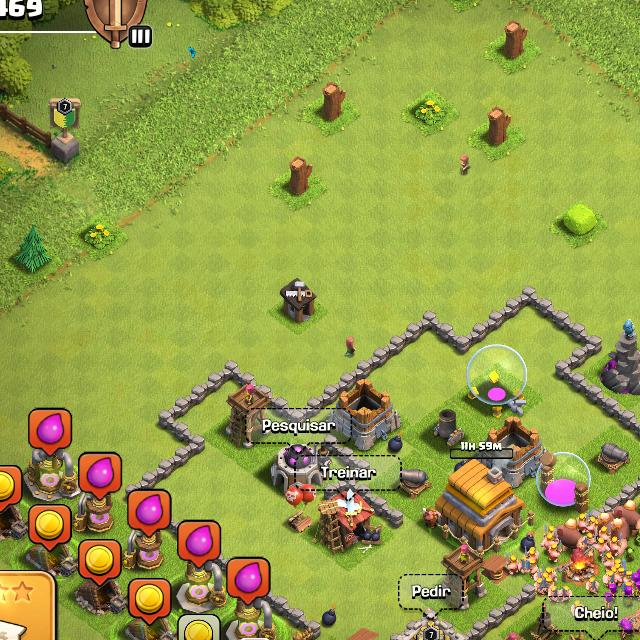Arqueira: (227, 384, 273, 448), (443, 544, 486, 606)
Canhao: (592, 440, 633, 474), (397, 466, 433, 500)
FullElixir: (28, 408, 73, 456)
